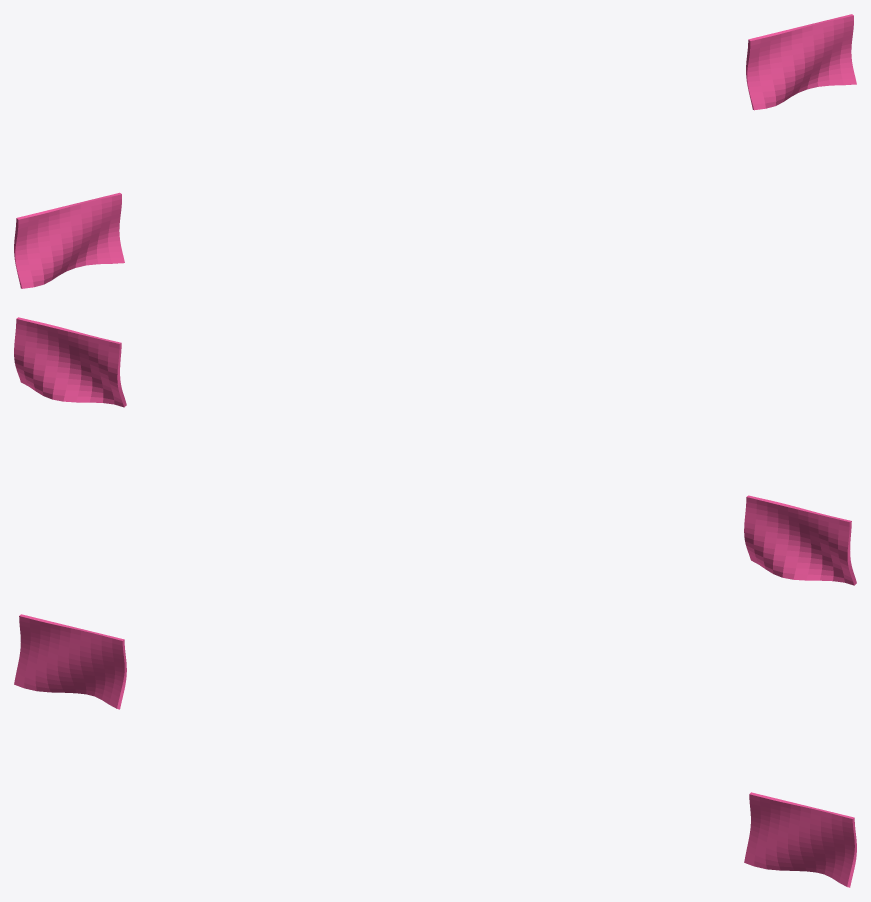
The model's file is FacadePennants_Feather.fbx.
3 views of the same model, one above another, from view 1: azimuth 30°, elevation 25°; view 2: azimuth 150°, elevation 25°; view 3: azimuth 330°, elevation 25° (orthographic).
Parts seen in each view (by area): view 1: FacadePennant-12.001; view 2: FacadePennant-12.001; view 3: FacadePennant-12.001.
Part boxes in pixels (left/top/right/bottom): FacadePennant-12.001: left=14, top=14, right=856, bottom=288; FacadePennant-12.001: left=14, top=317, right=856, bottom=585; FacadePennant-12.001: left=14, top=614, right=856, bottom=887.
Bounding box in the file's own units: 2745 × 217 × 71.48.
